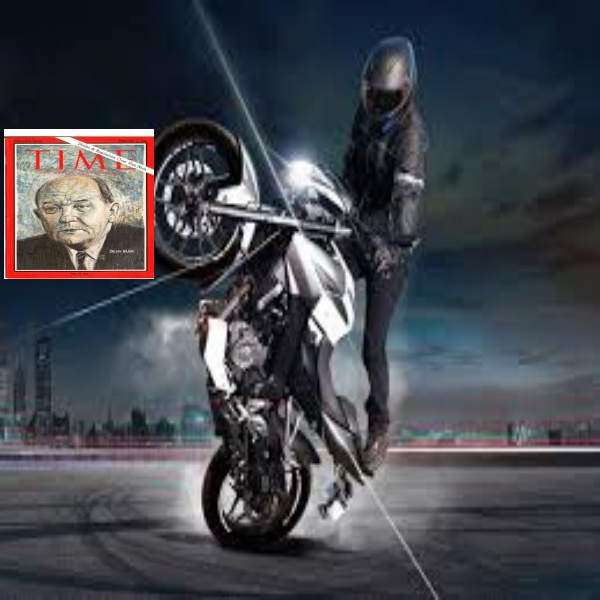time_cover: (4, 121, 158, 282)
